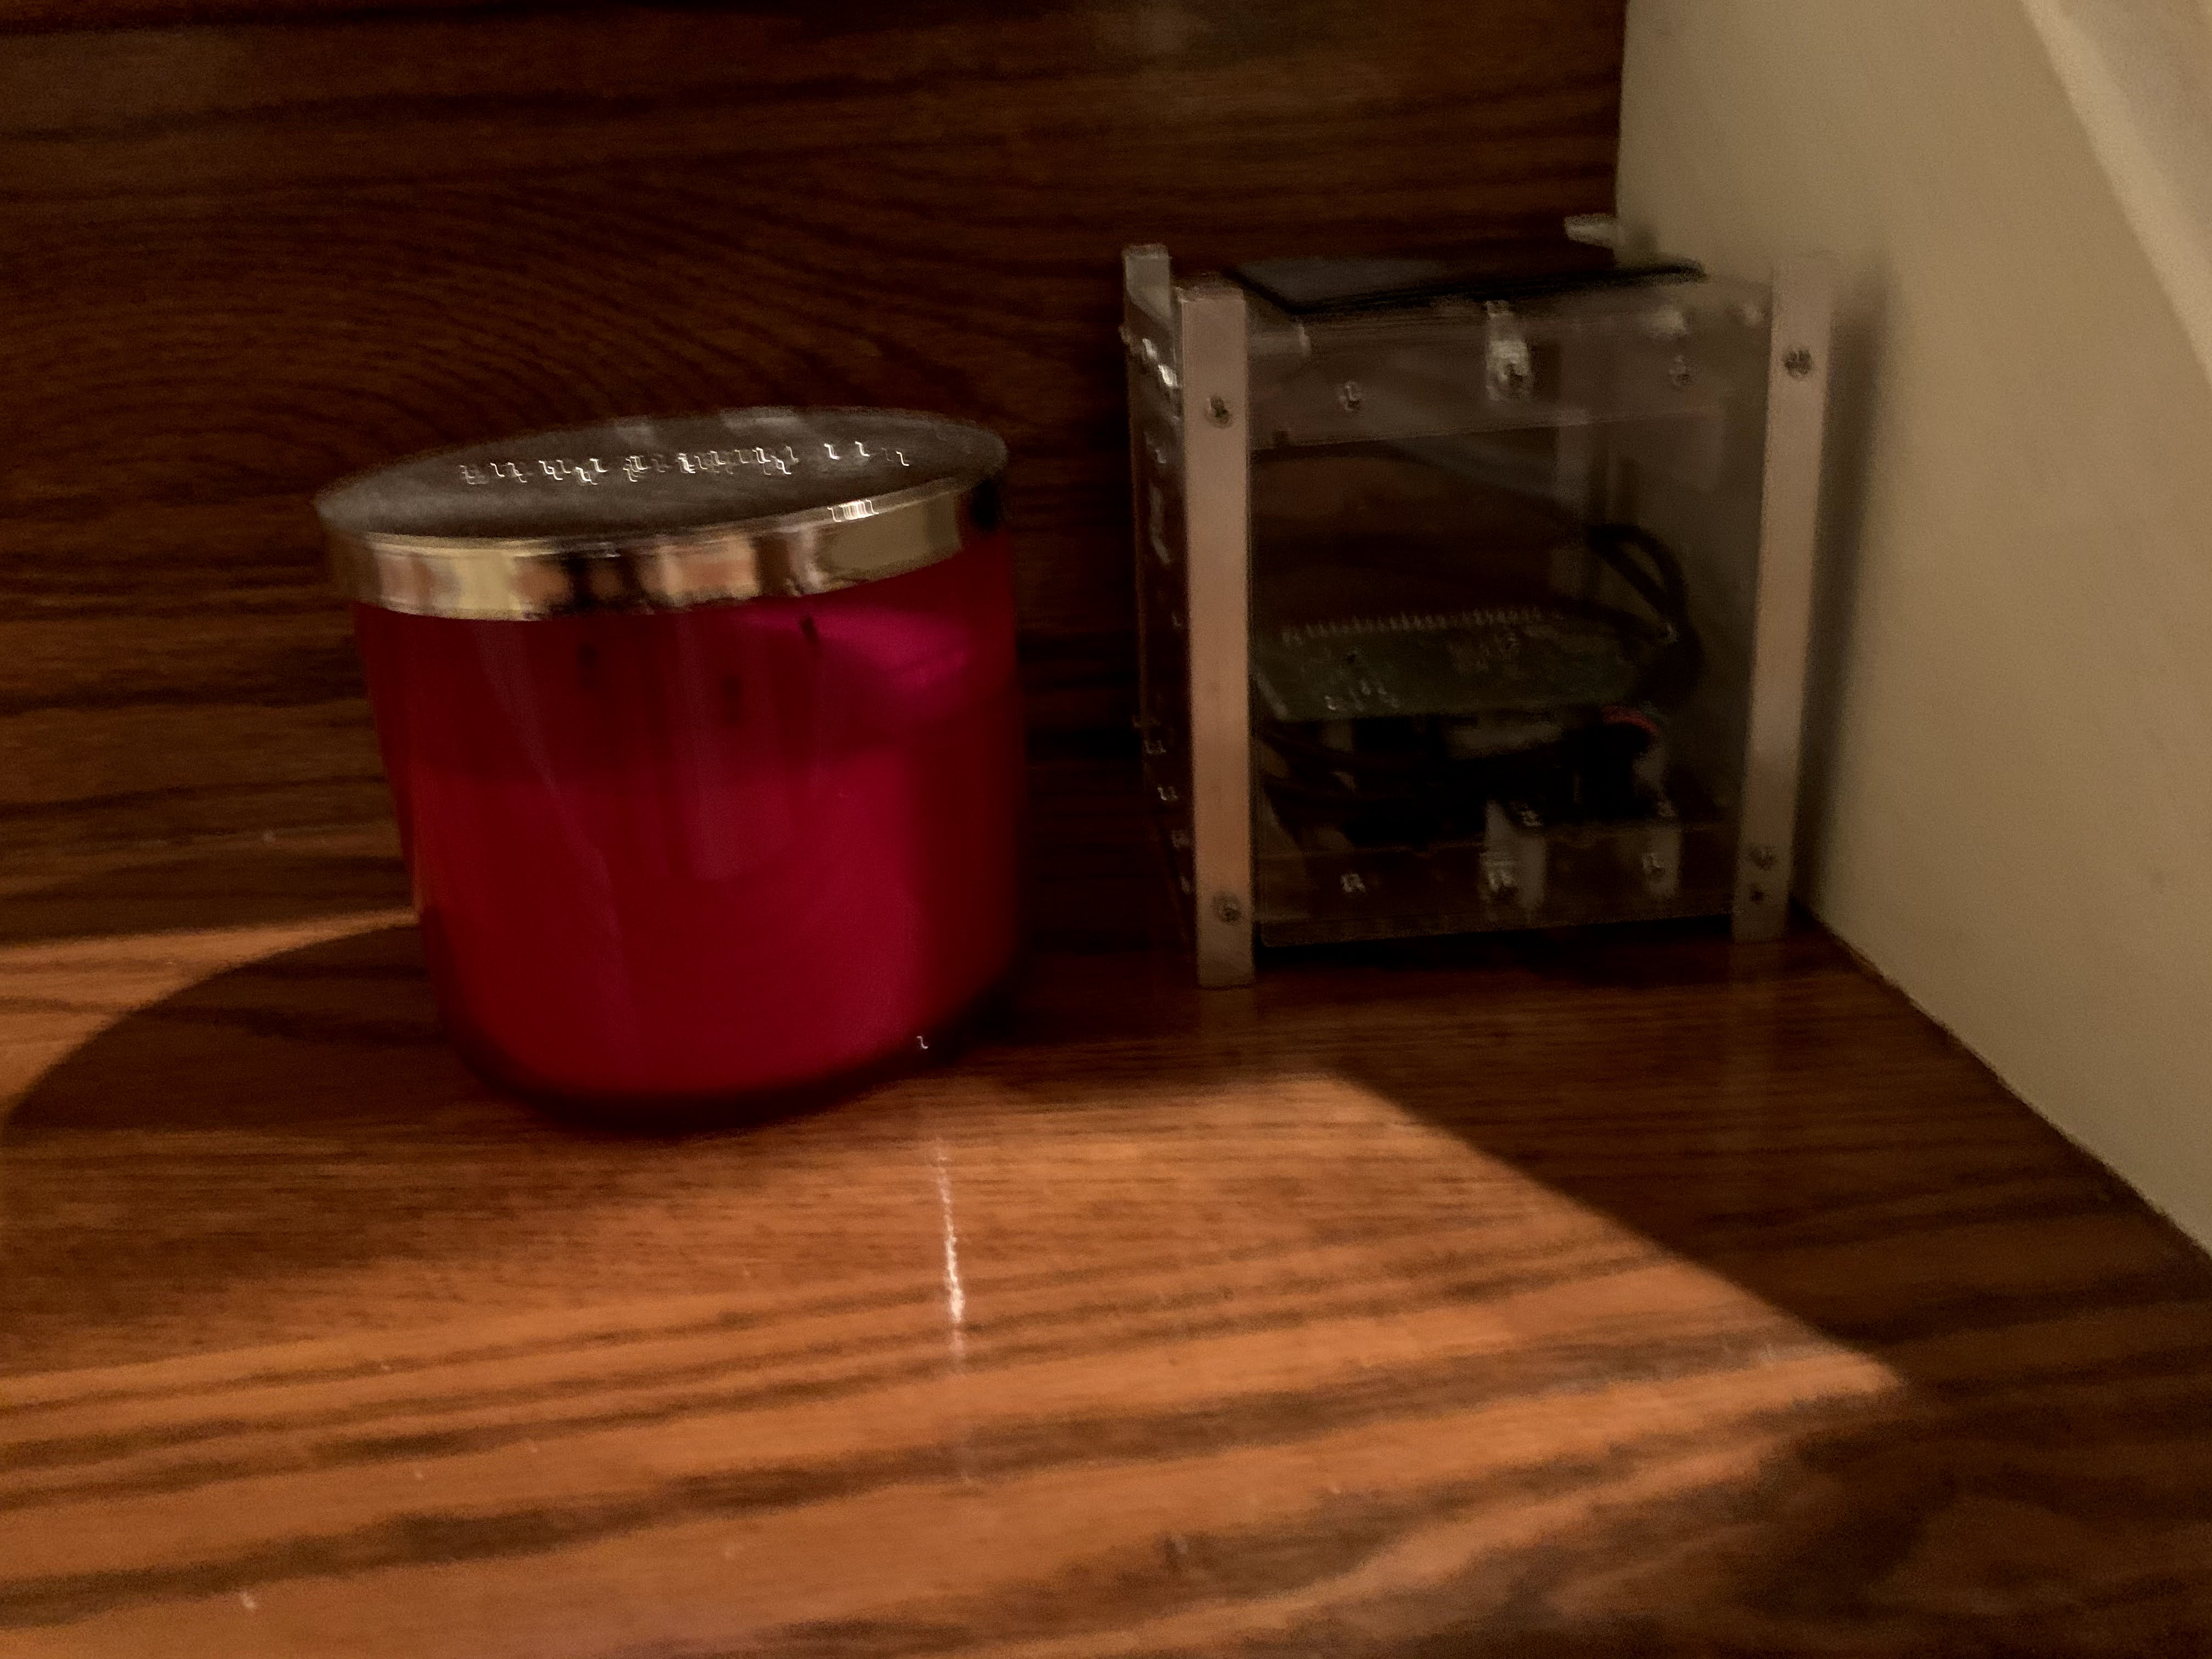Space-debris-cubesat: (1096, 200, 1862, 999)
